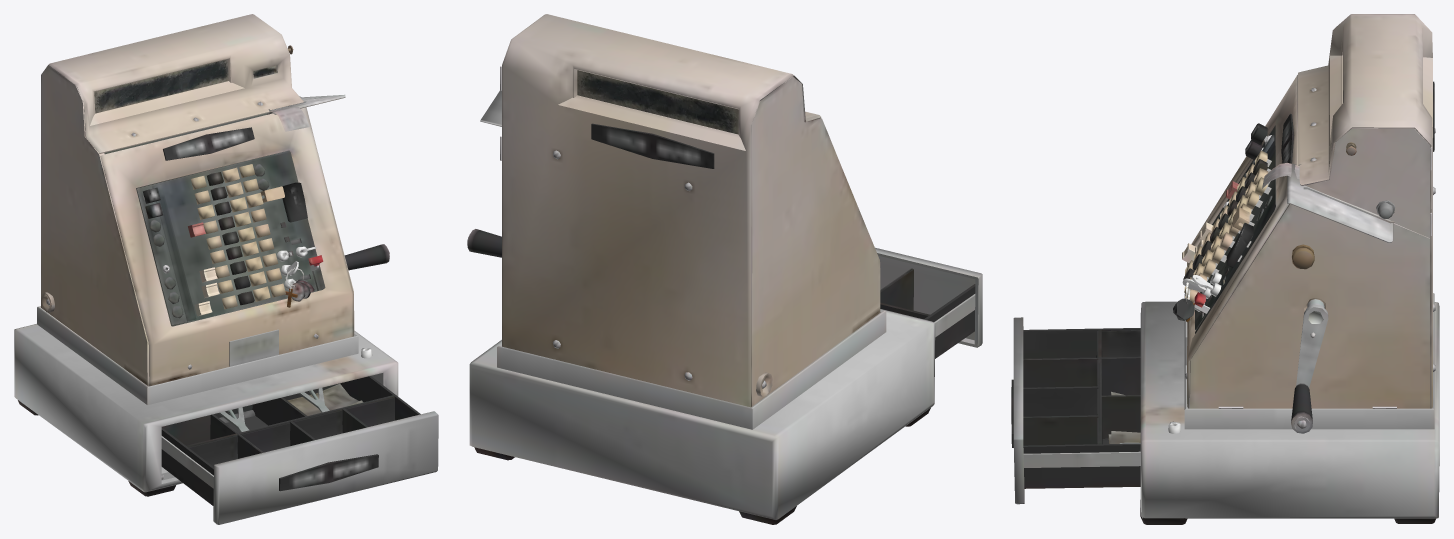
The model's file is CashRegister_01.glb.
3 views of the same model, side by side, from view 1: azimuth 30°, elevation 25°; view 2: azimuth 150°, elevation 25°; view 3: azimuth 270°, elevation 25° (orthographic). The views are drawn at different scales.
Visible parts, largest first — view 1: CashRegister_01_body; view 2: CashRegister_01_body; view 3: CashRegister_01_body.
Part boxes in pixels (x1,y1,x2,y2): CashRegister_01_body: [14, 14, 438, 524]; CashRegister_01_body: [467, 14, 982, 524]; CashRegister_01_body: [1011, 14, 1439, 524].
Size of the model in its own units: 0.6005 by 0.6212 by 0.6242.
Materials: 2 (2 with a texture image).
